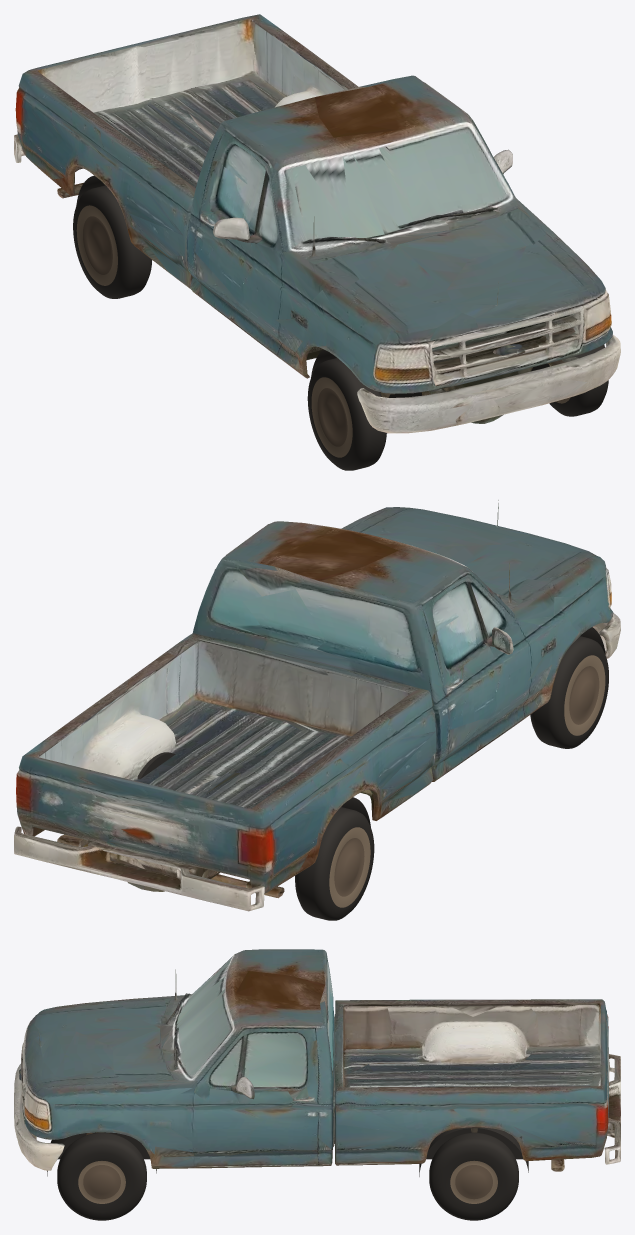
Rendered from VEH_M_BlueRustPickup_Drive.glb.
3 views of the same model, one above another, from view 1: azimuth 30°, elevation 25°; view 2: azimuth 150°, elevation 25°; view 3: azimuth 270°, elevation 25° (orthographic). The views are drawn at different scales.
Visible parts, largest first — view 1: VEH_M_BlueRustPickup, Wheel_RR, Wheel_FR, Wheel_FL; view 2: VEH_M_BlueRustPickup, Wheel_RR, Wheel_FR; view 3: VEH_M_BlueRustPickup, Wheel_FL, Wheel_RL, Liner_Wheel_RL, Liner_Wheel_FL.
Part boxes in pixels (box(x1,y1,x2,y2)): VEH_M_BlueRustPickup: box(14, 14, 620, 433); Wheel_RR: box(73, 185, 152, 298); Wheel_FR: box(307, 358, 386, 470); Wheel_FL: box(549, 345, 608, 416); VEH_M_BlueRustPickup: box(14, 500, 620, 911); Wheel_RR: box(295, 807, 374, 920); Wheel_FR: box(530, 636, 608, 748); VEH_M_BlueRustPickup: box(14, 949, 620, 1171); Wheel_FL: box(57, 1132, 146, 1220); Wheel_RL: box(429, 1132, 518, 1220); Liner_Wheel_RL: box(419, 1127, 528, 1176); Liner_Wheel_FL: box(47, 1132, 156, 1176).
Bounding box in the file's own units: 2.39 × 1.84 × 5.3.
Materials: 4 (1 with a texture image).
